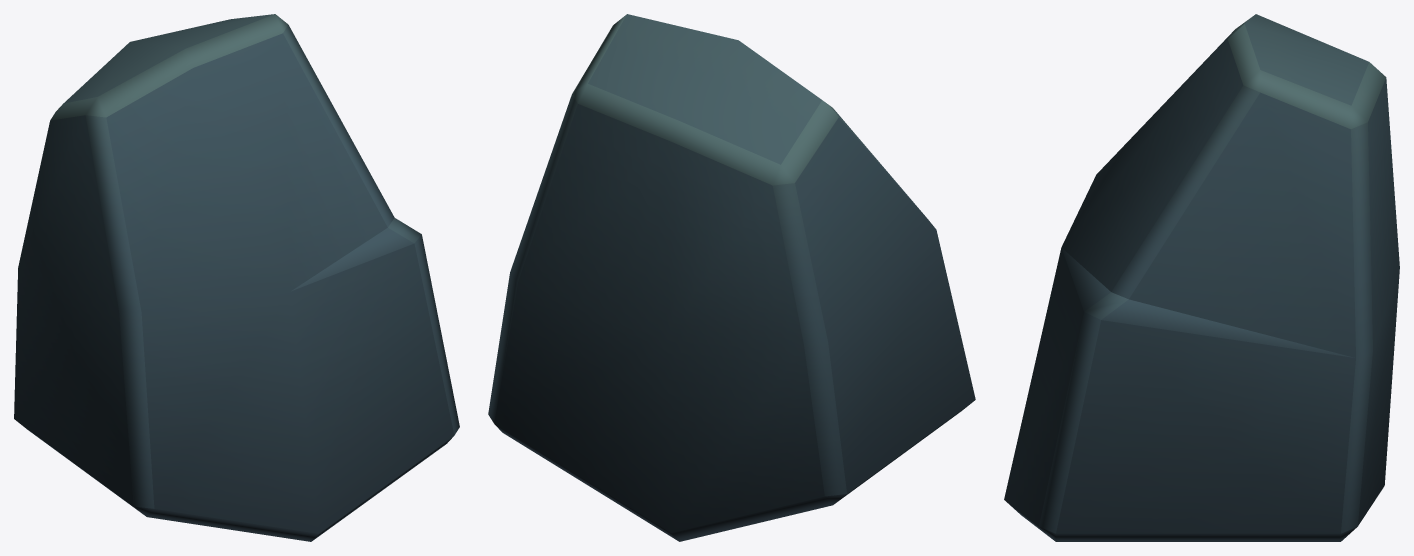
Rendered from rock_17.fbx.
The picture shows the model from 3 angles, left to right: view 1: azimuth 30°, elevation 25°; view 2: azimuth 150°, elevation 25°; view 3: azimuth 270°, elevation 25°; orthographic projection. The views are drawn at different scales.
Parts seen in each view (by area): view 1: rock_17; view 2: rock_17; view 3: rock_17.
Part boxes in pixels (x1,y1,x2,y2): rock_17: [14, 14, 459, 541]; rock_17: [488, 14, 975, 541]; rock_17: [1004, 14, 1399, 541].
Size of the model in its own units: 180 by 228 by 169.
